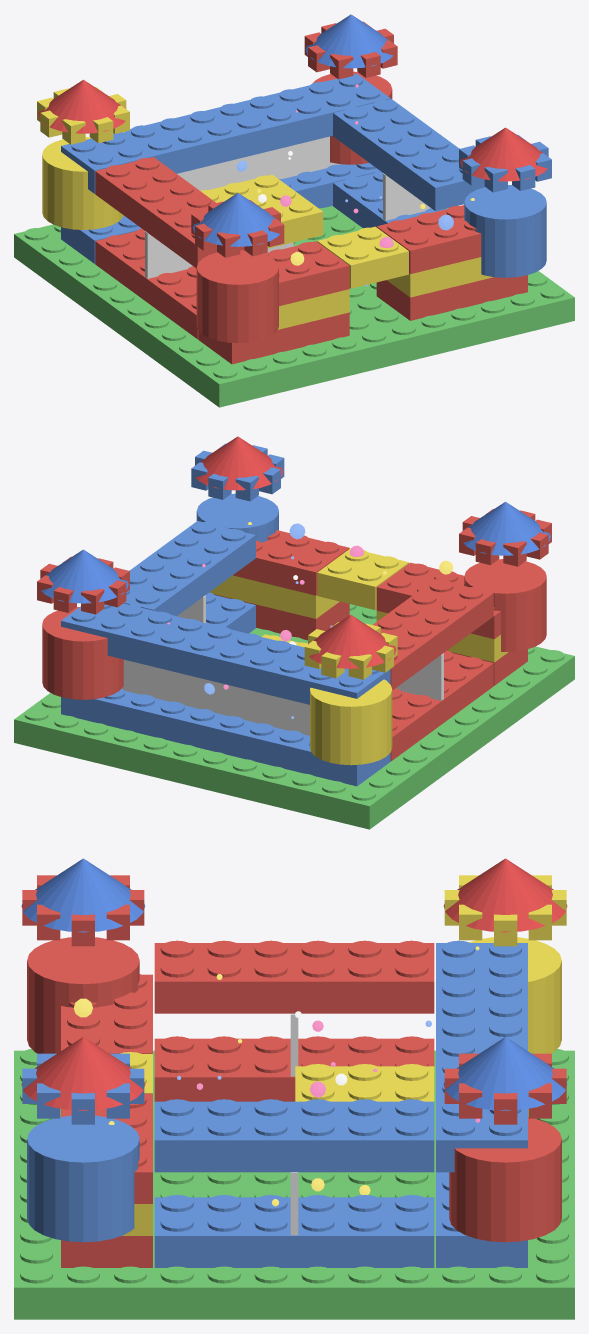
File: duplo_castle.glb
The picture shows the model from 3 angles, top to bottom: view 1: azimuth 30°, elevation 25°; view 2: azimuth 150°, elevation 25°; view 3: azimuth 270°, elevation 25°; orthographic projection. The views are drawn at different scales.
Visible parts, largest first — view 1: base_body, bwall_top_body, tower_0_body, tower_1_body, rwall_top_body, lwall_top_body, tower_2_body, lwall_1_body, bwall_trans_panel, fwall_R1_body, fwall_L1_body, fwall_R3_body (+14 smaller); view 2: base_body, bwall_top_body, bwall_1_body, tower_2_body, bwall_trans_panel, tower_3_body, rwall_top_body, tower_0_body, lwall_top_body, lwall_1_body, fwall_R3_body, fwall_R2_body (+12 smaller); view 3: base_body, rwall_top_body, lwall_top_body, rwall_1_body, tower_1_body, tower_3_body, bwall_top_body, tower_0_body, lwall_1_body, tower_1_roof, tower_3_roof, tower_0_roof (+20 smaller).
Part boxes in pixels (<box>): base_body: <box>14,206,574,407</box>; bwall_top_body: <box>61,73,390,193</box>; tower_0_body: <box>196,250,278,343</box>; tower_1_body: <box>464,185,546,277</box>; rwall_top_body: <box>333,99,484,211</box>; lwall_top_body: <box>95,157,244,268</box>; tower_2_body: <box>42,137,123,229</box>; lwall_1_body: <box>95,231,198,339</box>; bwall_trans_panel: <box>123,136,341,215</box>; fwall_R1_body: <box>376,275,527,320</box>; fwall_L1_body: <box>198,312,349,364</box>; fwall_R3_body: <box>376,205,481,273</box>; base_body: <box>14,605,574,829</box>; bwall_top_body: <box>61,603,390,704</box>; bwall_1_body: <box>61,691,390,786</box>; tower_2_body: <box>310,679,392,765</box>; bwall_trans_panel: <box>122,659,309,735</box>; tower_3_body: <box>42,607,123,699</box>; rwall_top_body: <box>124,521,255,616</box>; tower_0_body: <box>464,559,546,651</box>; lwall_top_body: <box>373,579,493,690</box>; lwall_1_body: <box>390,653,493,761</box>; fwall_R3_body: <box>233,530,349,595</box>; fwall_R2_body: <box>209,575,339,618</box>; base_body: <box>14,1050,574,1319</box>; rwall_top_body: <box>154,1101,434,1172</box>; lwall_top_body: <box>154,943,434,1013</box>; rwall_1_body: <box>154,1197,434,1267</box>; tower_1_body: <box>27,1115,139,1242</box>; tower_3_body: <box>449,1117,561,1242</box>; bwall_top_body: <box>436,943,527,1172</box>; tower_0_body: <box>27,937,139,1053</box>; lwall_1_body: <box>154,1038,434,1101</box>; tower_1_roof: <box>21,1037,145,1110</box>; tower_3_roof: <box>443,1037,567,1110</box>; tower_0_roof: <box>21,858,145,932</box>.
Size of the model in its own units: 11.96 by 5.96 by 11.96.
